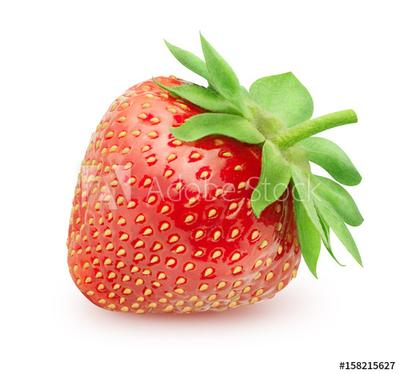strawberry: (0, 0, 400, 374)
